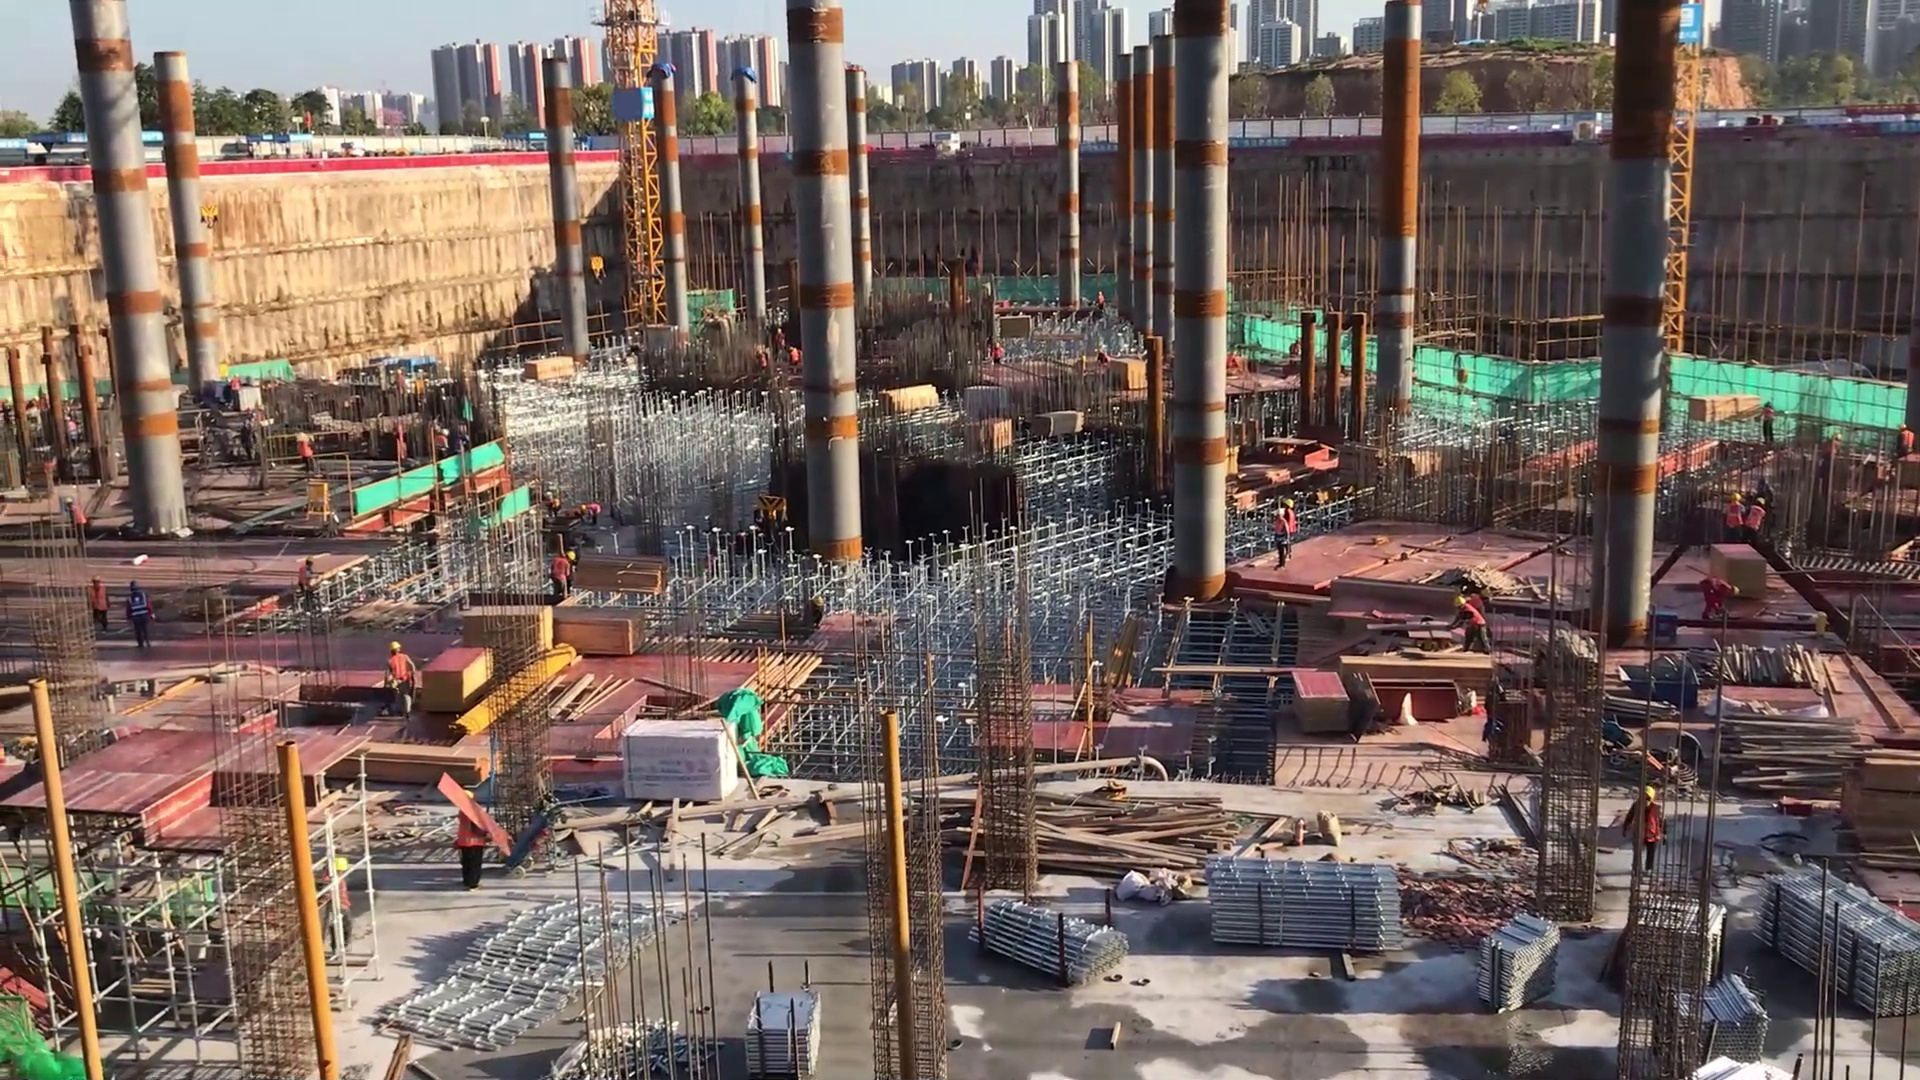board: (423, 644, 497, 714), (458, 603, 553, 653), (1286, 666, 1352, 735)
ebox: (298, 481, 350, 524)
helmet: (334, 852, 351, 875), (1641, 783, 1659, 803), (126, 578, 144, 595), (1453, 593, 1468, 610), (390, 640, 402, 658), (305, 553, 316, 569), (564, 549, 578, 562), (1732, 582, 1741, 599), (1896, 419, 1908, 433), (91, 576, 102, 589), (1286, 498, 1295, 513), (1731, 490, 1743, 501), (1754, 496, 1766, 506), (440, 426, 451, 436), (66, 495, 74, 507), (1763, 401, 1774, 409), (580, 501, 587, 510)
hook: (1616, 655, 1713, 716), (579, 252, 611, 291), (195, 202, 231, 234)
person: (436, 787, 511, 920), (311, 846, 366, 976), (378, 635, 423, 743), (119, 582, 167, 671), (1630, 775, 1671, 879), (1446, 596, 1496, 659), (551, 543, 586, 622), (288, 426, 326, 493), (1697, 573, 1741, 623), (81, 569, 108, 643), (1746, 489, 1771, 555), (65, 492, 92, 547), (295, 548, 319, 611), (1720, 486, 1743, 546), (570, 498, 608, 531), (1113, 357, 1150, 390), (1271, 507, 1292, 563), (1758, 399, 1781, 448), (1283, 495, 1300, 557), (1896, 419, 1915, 471), (431, 422, 454, 457), (541, 488, 564, 518), (231, 369, 243, 403), (1290, 335, 1303, 364), (1092, 348, 1110, 368), (1097, 289, 1107, 313), (993, 341, 1002, 364)
scaffold: (1758, 844, 1920, 1019), (1200, 852, 1404, 953), (966, 882, 1127, 987), (1463, 913, 1563, 1024), (1662, 977, 1780, 1070)
slogan: (1223, 128, 1298, 152), (1081, 134, 1122, 164), (1884, 124, 1920, 138)
vest: (455, 809, 486, 850), (387, 652, 410, 692), (1457, 604, 1488, 632), (127, 591, 149, 625), (1746, 504, 1765, 540), (548, 556, 570, 586), (1713, 573, 1731, 602), (1727, 501, 1745, 530), (89, 585, 106, 613), (1276, 519, 1290, 546)
wood: (1035, 789, 1241, 879), (1719, 698, 1865, 802), (1832, 746, 1920, 862), (1339, 656, 1501, 698), (361, 746, 500, 791), (556, 602, 647, 657), (567, 557, 671, 595), (1682, 389, 1762, 431), (527, 348, 584, 395), (1022, 408, 1088, 447), (874, 379, 938, 419)
